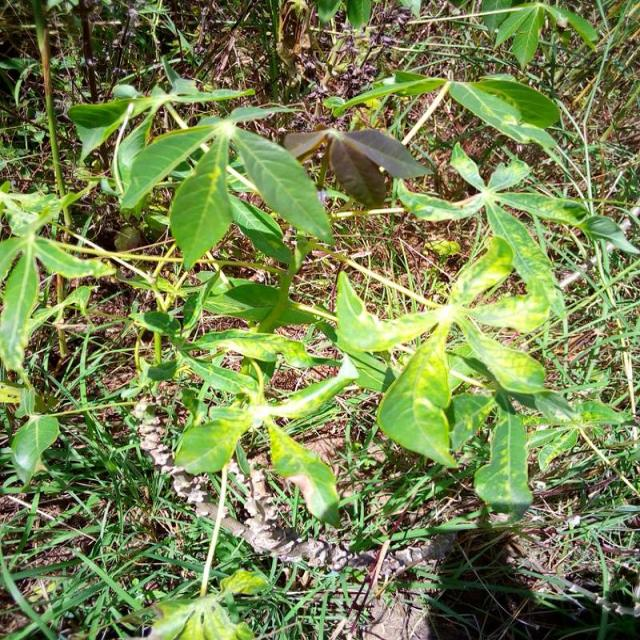cassava leaf: (230, 124, 336, 246), (168, 127, 234, 271), (474, 411, 534, 518)
